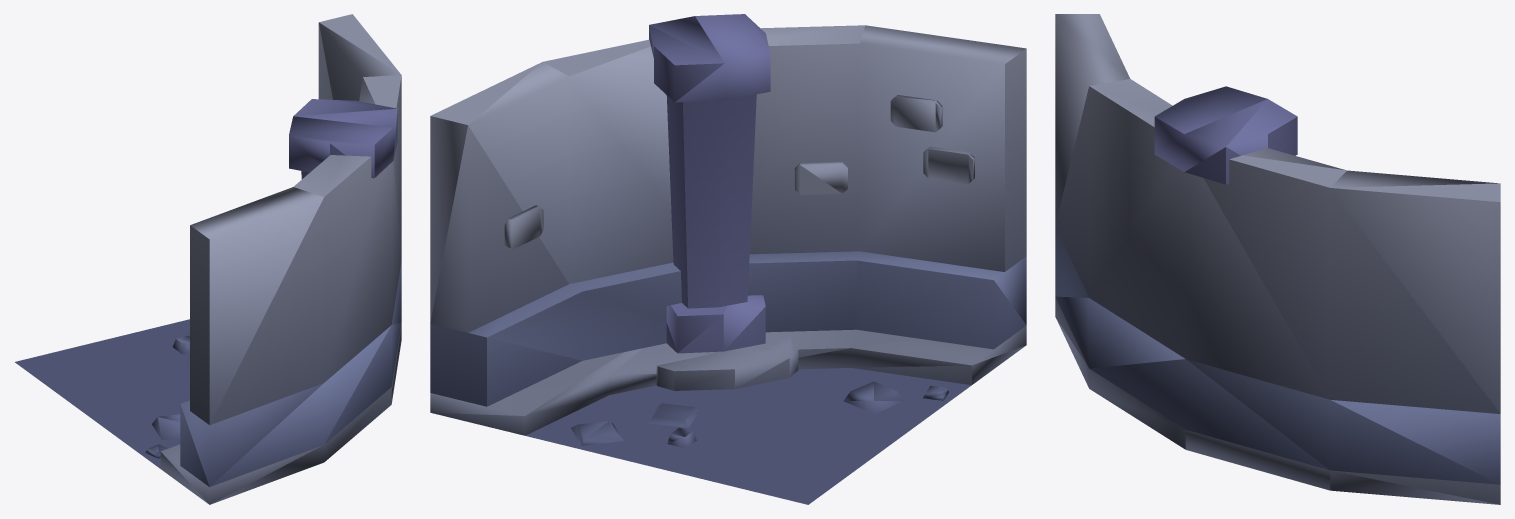
The model's file is template-corner_lev2.glb.
The picture shows the model from 3 angles, left to right: view 1: azimuth 30°, elevation 25°; view 2: azimuth 150°, elevation 25°; view 3: azimuth 270°, elevation 25°; orthographic projection. The views are drawn at different scales.
Visible parts, largest first — view 1: template-corner_lev2; view 2: template-corner_lev2; view 3: template-corner_lev2.
Part boxes in pixels (left/top/right/bottom): template-corner_lev2: left=15, top=14, right=401, bottom=504; template-corner_lev2: left=430, top=14, right=1026, bottom=504; template-corner_lev2: left=1055, top=14, right=1500, bottom=504.
Size of the model in its own units: 4 by 3.13 by 4.
Materials: 1 (1 with a texture image).
